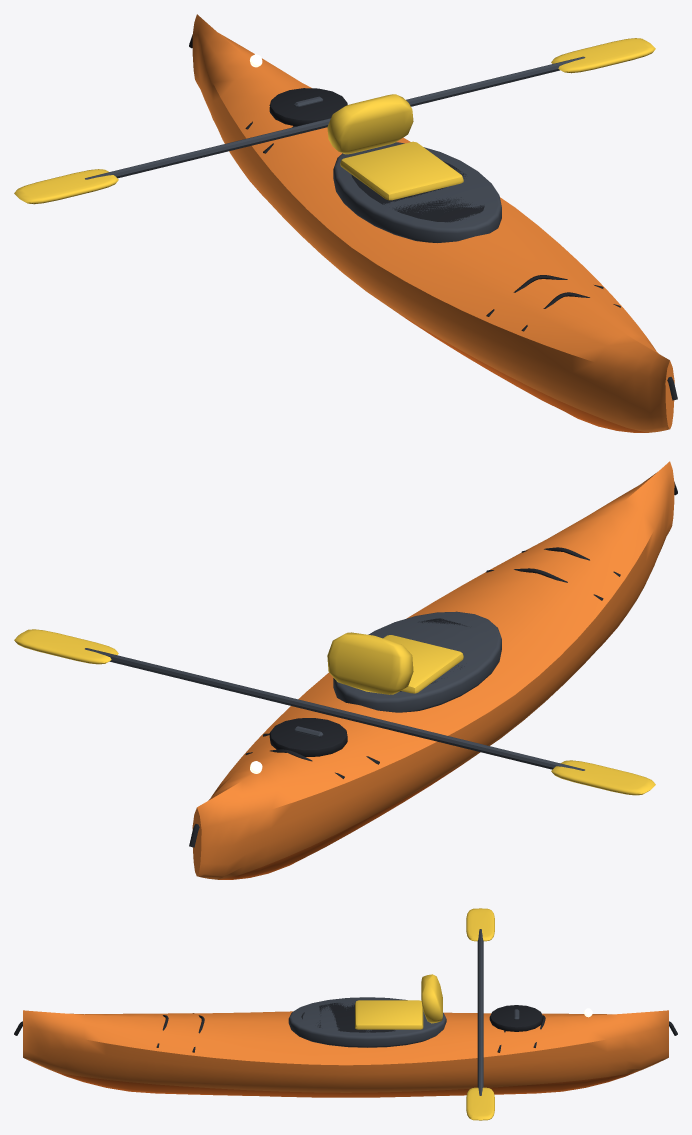
The model's file is caiaque.glb.
3 renders of one model, top to bottom at view 1: azimuth 30°, elevation 25°; view 2: azimuth 150°, elevation 25°; view 3: azimuth 270°, elevation 25°, orthographic. The views are drawn at different scales.
Parts seen in each view (by area): view 1: caiaque, escotilha; view 2: caiaque, escotilha; view 3: caiaque, escotilha.
Boxes of the visible parts, bbox=[...] form: caiaque: bbox=[14, 14, 677, 432]; escotilha: bbox=[269, 88, 347, 126]; caiaque: bbox=[14, 461, 677, 879]; escotilha: bbox=[269, 718, 347, 756]; caiaque: bbox=[14, 908, 677, 1120]; escotilha: bbox=[489, 1005, 543, 1031].
Size of the model in its own units: 2.78 by 0.6663 by 3.7.
2 materials, 1 textured.
